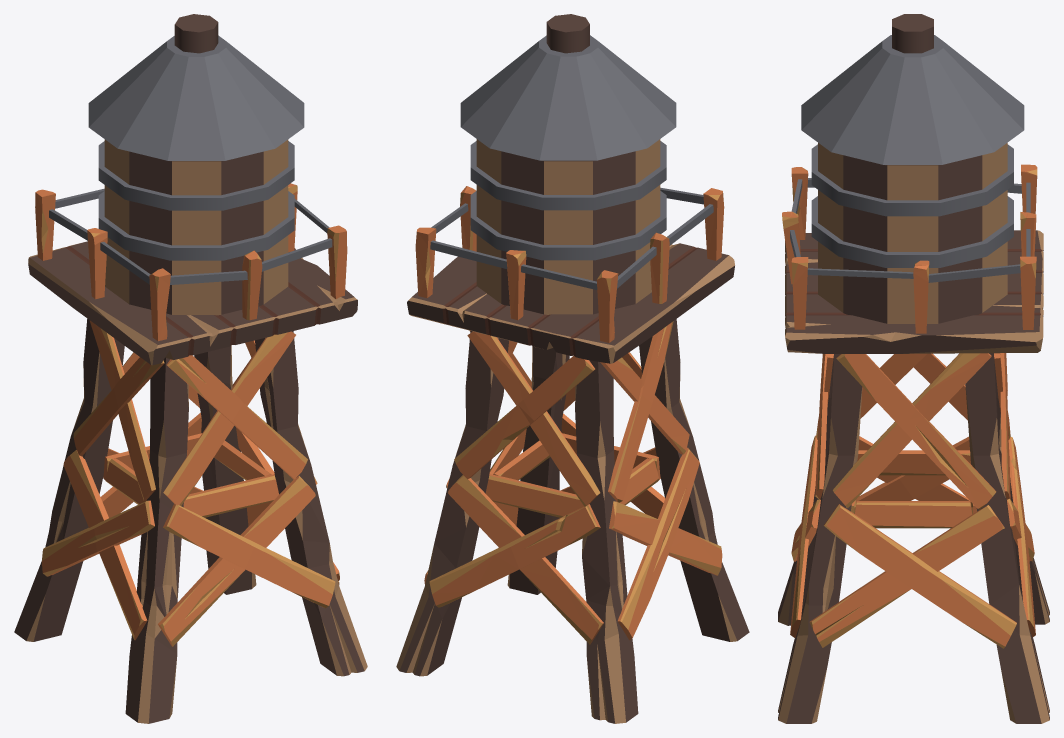
The model's file is WaterTower.fbx.
3 renders of one model, left to right at view 1: azimuth 30°, elevation 25°; view 2: azimuth 150°, elevation 25°; view 3: azimuth 270°, elevation 25°, orthographic. The views are drawn at different scales.
Parts seen in each view (by area): view 1: WaterTower; view 2: WaterTower; view 3: WaterTower.
Part boxes in pixels (x1=…): WaterTower: x1=14, y1=14, x2=367, y2=723; WaterTower: x1=396, y1=14, x2=749, y2=723; WaterTower: x1=778, y1=14, x2=1049, y2=723.
Bounding box in the file's own units: 129 × 335 × 128.
